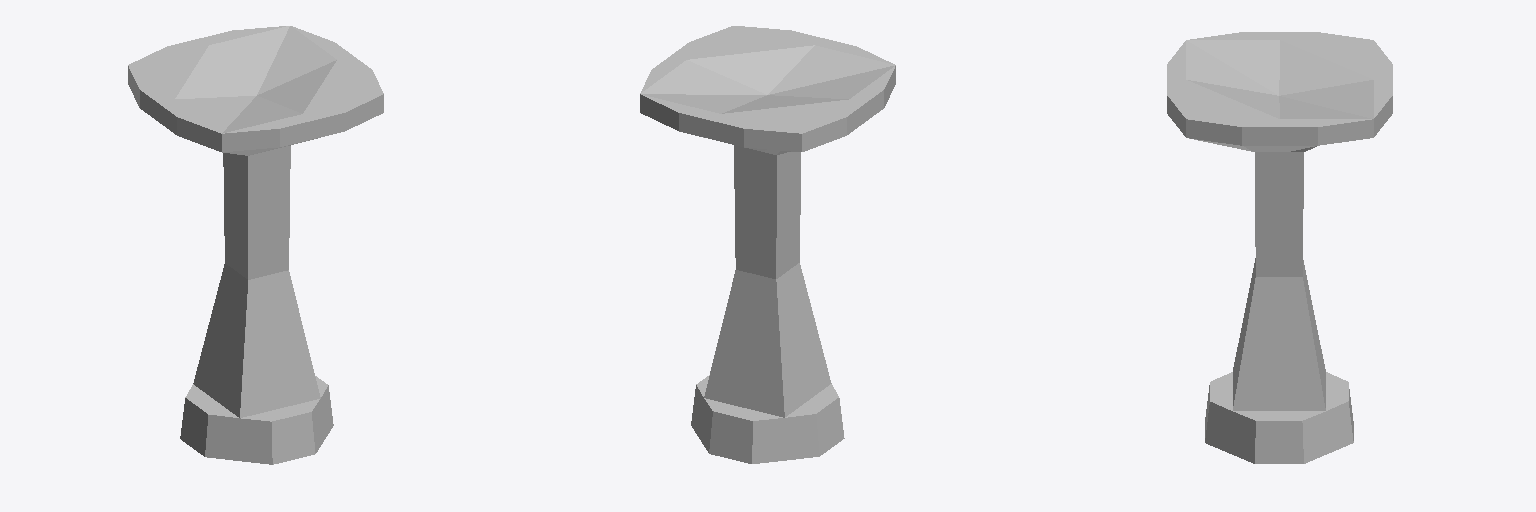
File: lightstool.obj
The picture shows the model from 3 angles: view 1: azimuth 30°, elevation 25°; view 2: azimuth 150°, elevation 25°; view 3: azimuth 270°, elevation 25°; orthographic projection.
Visible parts, largest first — view 1: Cube; view 2: Cube; view 3: Cube.
Boxes of the visible parts, x1=… form: Cube: x1=128, y1=26, x2=383, y2=464; Cube: x1=640, y1=26, x2=895, y2=463; Cube: x1=1167, y1=32, x2=1392, y2=463.
Bounding box in the file's own units: 1.5 × 2.59 × 1.5.